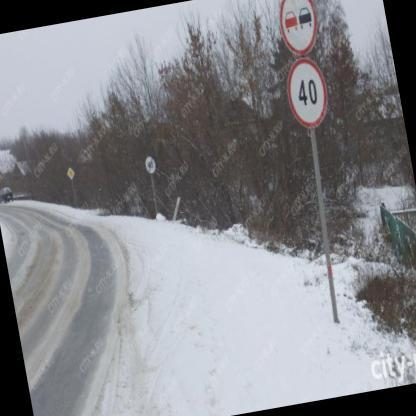road_sign: (288, 57, 327, 127), (280, 0, 316, 53), (145, 156, 156, 175), (67, 167, 76, 180)
